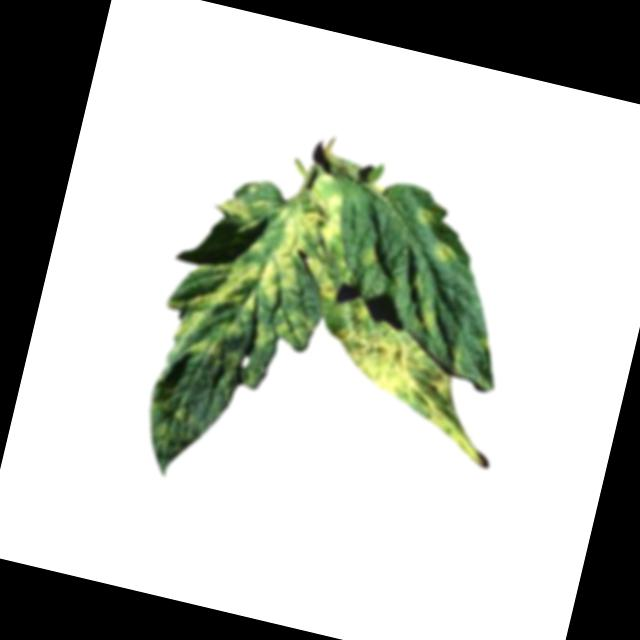Leaf_Mold: (155, 145, 363, 386), (311, 311, 530, 468), (212, 190, 258, 225), (428, 241, 462, 269), (354, 239, 382, 271), (412, 205, 434, 225)
